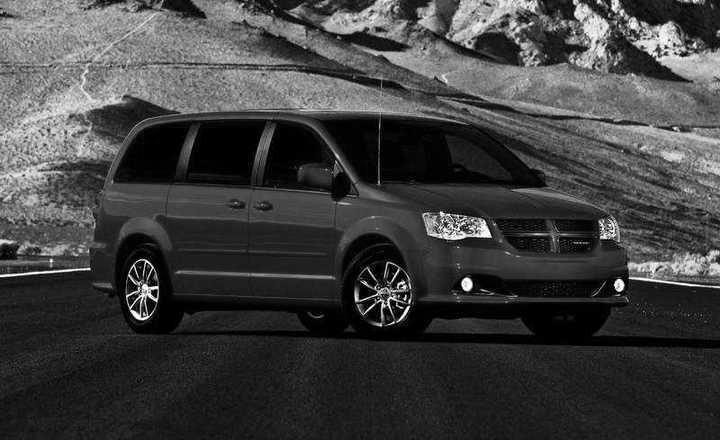car: (87, 108, 630, 342)
